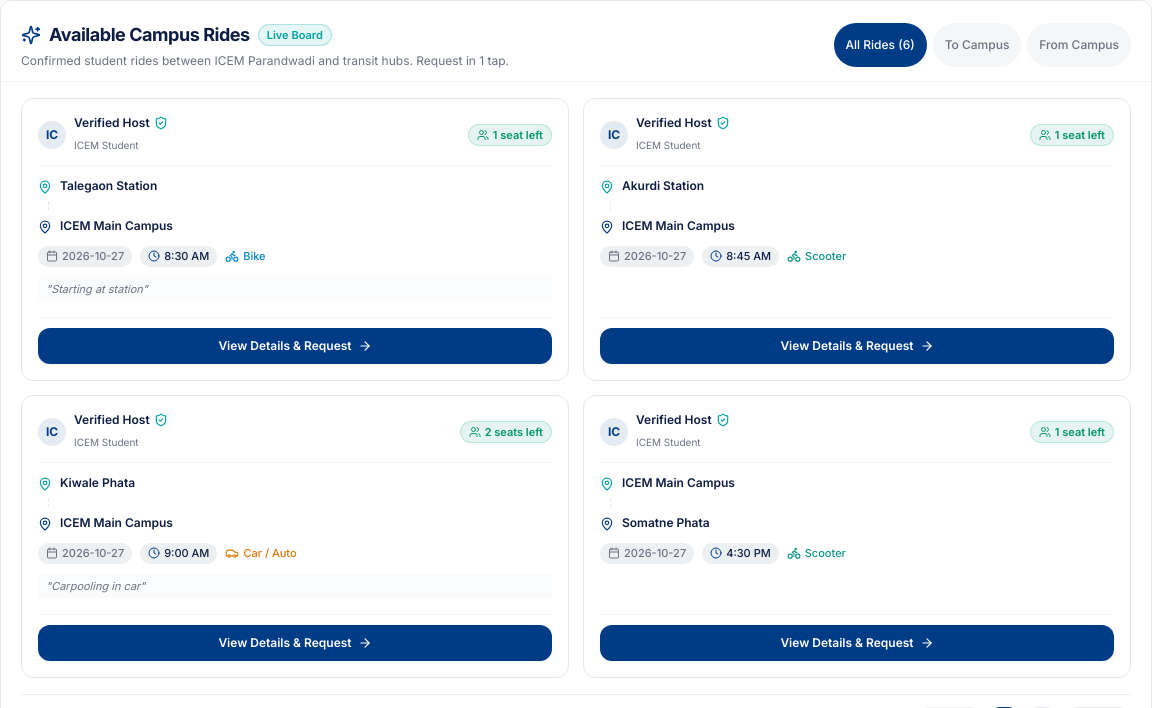
Test: AvailableCampusRides Component › filters rides by corridor direction (To Campus / From Campus)
The image size is (1152, 708).
Expected: the text "Talegaon Station" is shown, [60,178,157,193]
# Click "From Campus" filter tab
What coordinates should you click on to do the following:
click the tab "From Campus"
I would click on:
 (1079, 45)
Its box is [1027,23,1131,67].
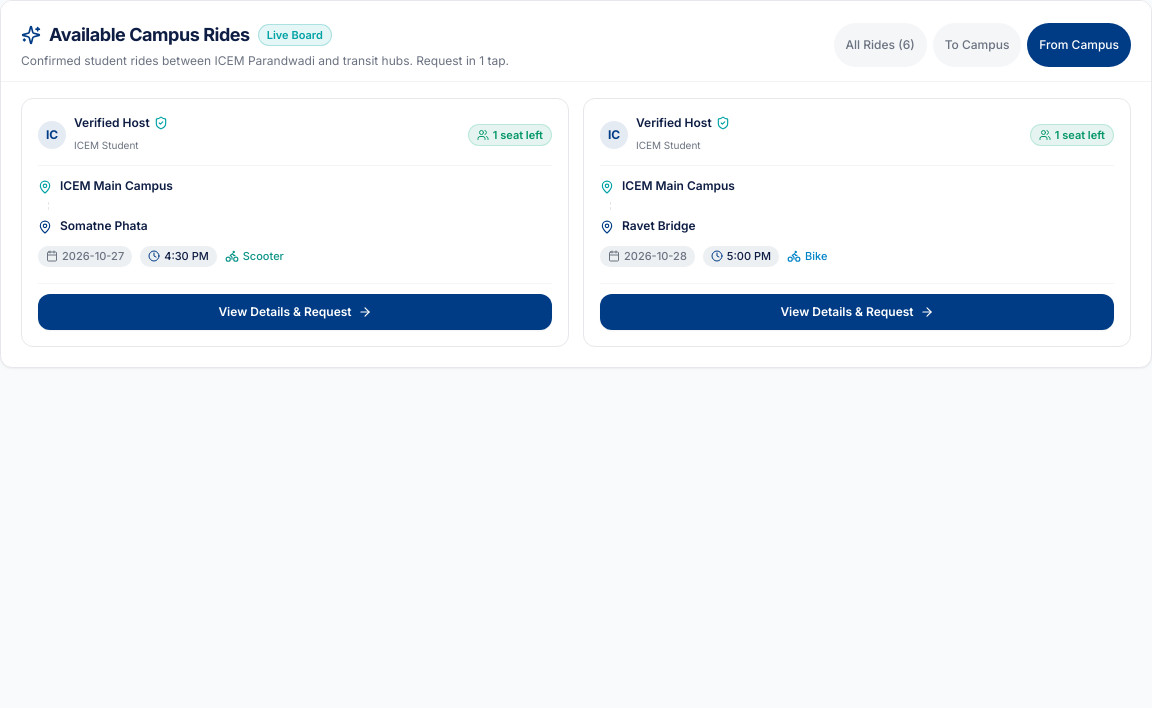
Expected: the text "Ravet Bridge" is shown, [622,218,696,233]
Expected: the text "Akurdi Station" is gone
